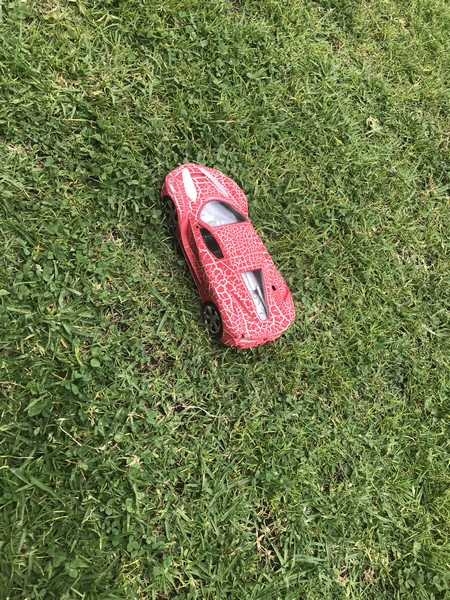RC: (161, 163, 298, 350)
